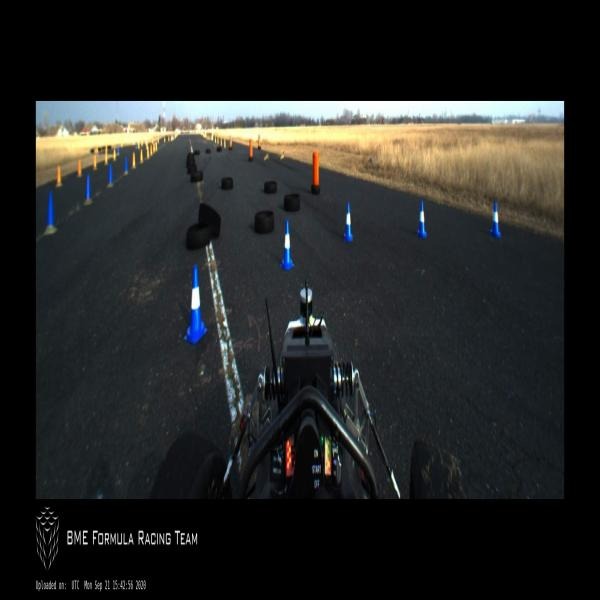blue_cone: (183, 265, 208, 344), (280, 219, 294, 271), (489, 197, 501, 241), (342, 199, 354, 242), (417, 203, 427, 238)
